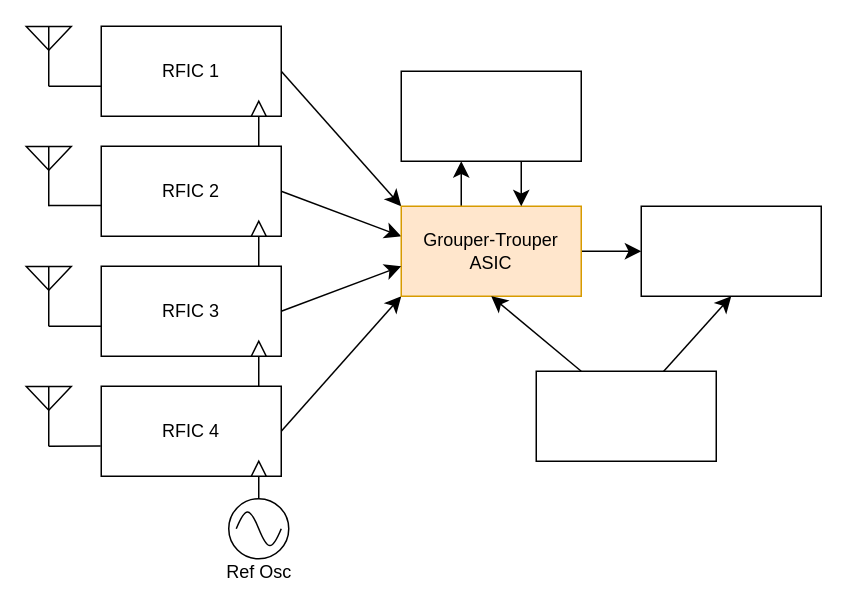
This 848x609 diagram has some shape labels left out. Each missing label, with the centre of its shape:
64Mb PSRAM: (x=490, y=115)
LoRa Digital Baseband: (x=730, y=250)
Microcontroller: (x=625, y=415)
